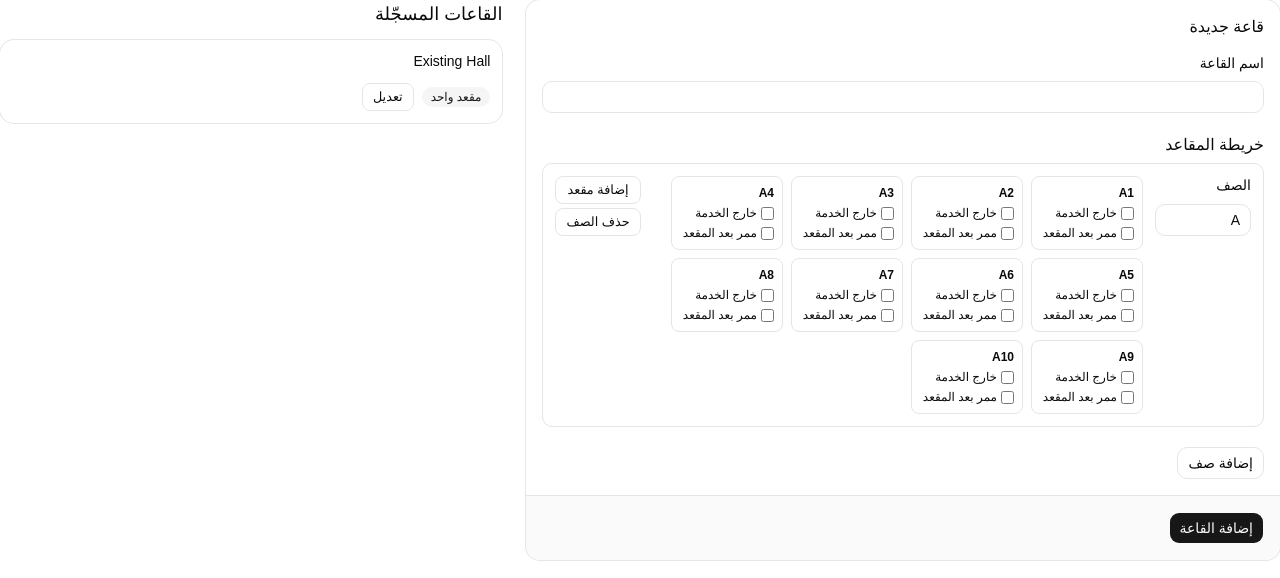
AuditoriumAdmin seat-map editor › adds a seat, marks it out of service, and saves a normalised seat map
Later steps or results of the test are not shown.
Type "Main Hall" into the field labelled "اسم القاعة". click: coordinates (903, 97)
box: [542, 81, 1264, 113]
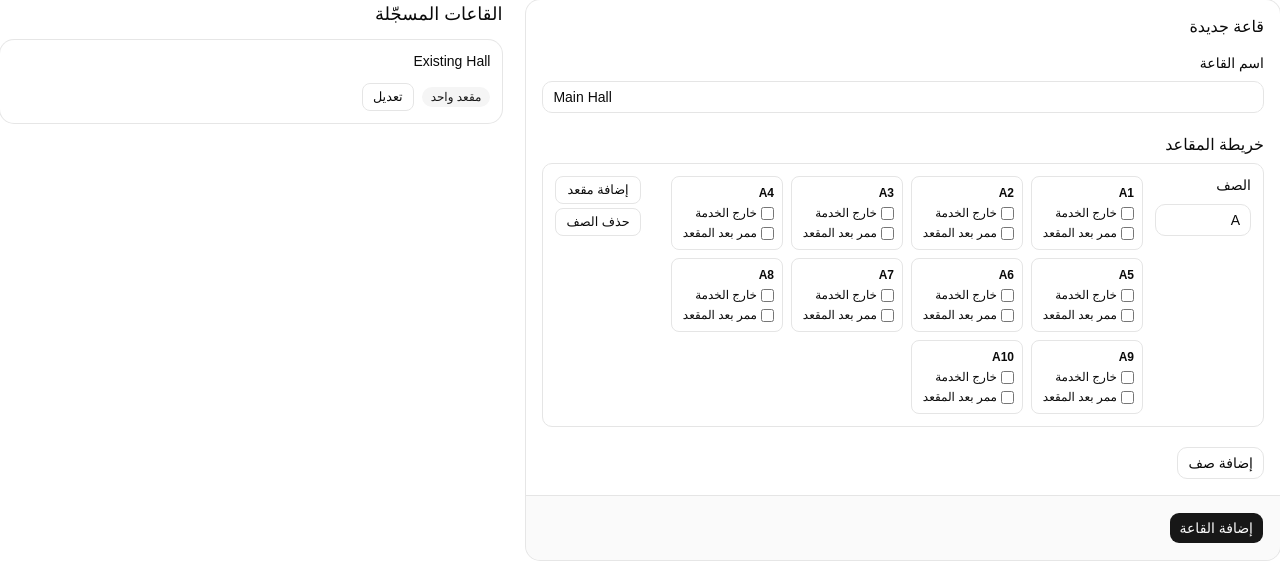
Click the button "إضافة مقعد". click: coordinates (598, 190)
box: [555, 176, 641, 204]
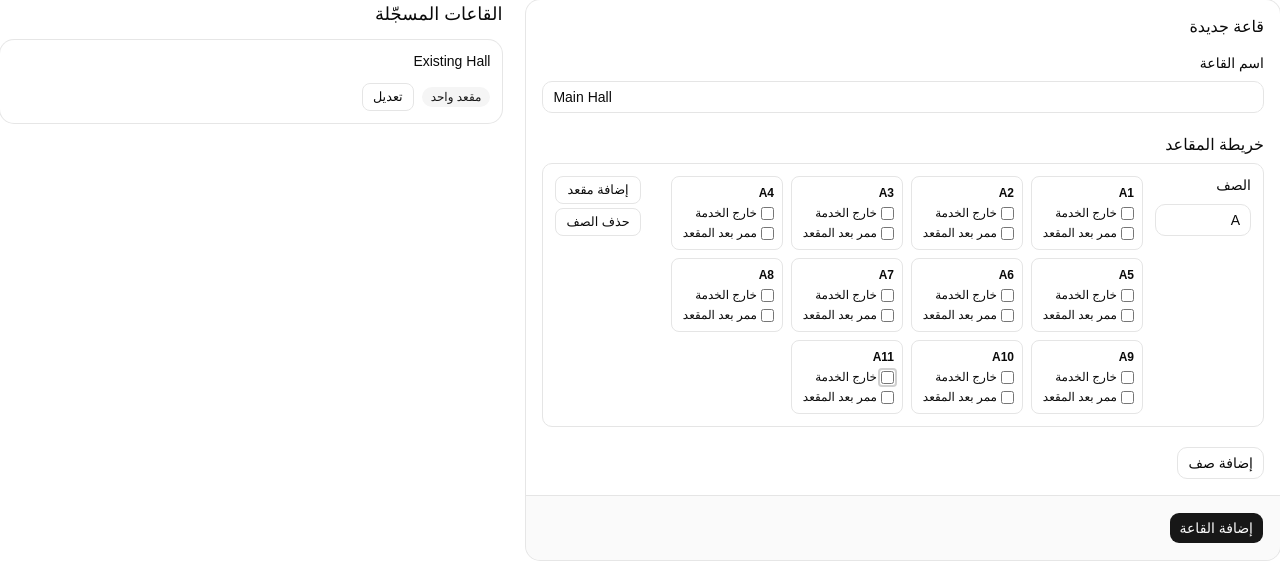
expect the text "A11" is shown: met, box [873, 350, 894, 364]
